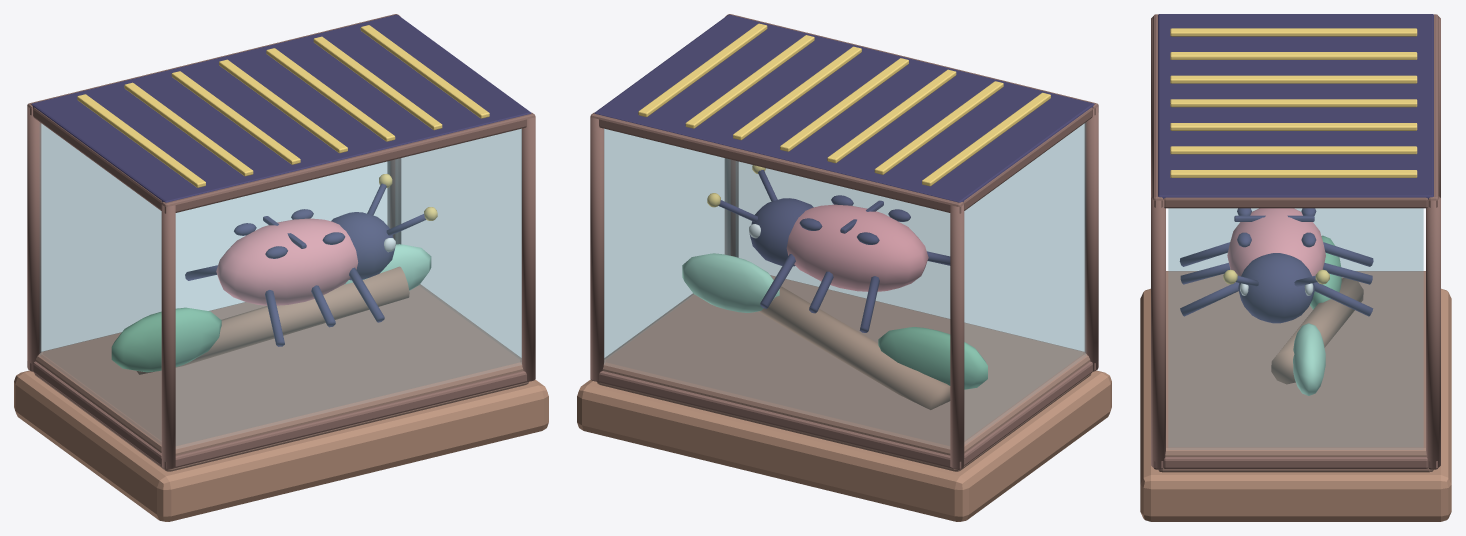
File: alpine_beetle_terrarium.glb
3 renders of one model, left to right at view 1: azimuth 30°, elevation 25°; view 2: azimuth 150°, elevation 25°; view 3: azimuth 270°, elevation 25°, orthographic. The views are drawn at different scales.
Visible parts, largest first — view 1: terrarium_front_glass, mesh_lid, terrarium_soil, terrarium_back_glass, terrarium_left_glass, terrarium_base, terrarium_right_glass, beetle_body, storybook_branch, terrarium_front_rail.001, terrarium_front_rail, terrarium_leaf (+16 smaller); view 2: terrarium_back_glass, mesh_lid, terrarium_soil, terrarium_front_glass, terrarium_left_glass, terrarium_base, terrarium_right_glass, beetle_body, storybook_branch, terrarium_back_rail.001, terrarium_back_rail, terrarium_leaf.001 (+16 smaller); view 3: terrarium_right_glass, terrarium_soil, mesh_lid, terrarium_base, terrarium_left_glass, beetle_body, terrarium_post.002, terrarium_post.003, beetle_head, terrarium_right_rail, terrarium_right_rail.001, storybook_branch (+19 smaller).
Part boxes in pixels (bbox=[...]): terrarium_front_glass: bbox=[176, 129, 521, 448]; mesh_lid: bbox=[31, 14, 531, 202]; terrarium_soil: bbox=[34, 284, 528, 471]; terrarium_back_glass: bbox=[42, 124, 389, 351]; terrarium_left_glass: bbox=[40, 123, 161, 443]; terrarium_base: bbox=[14, 370, 548, 521]; terrarium_right_glass: bbox=[396, 129, 520, 357]; beetle_body: bbox=[216, 218, 358, 305]; storybook_branch: bbox=[136, 266, 409, 374]; terrarium_front_rail.001: bbox=[161, 112, 535, 213]; terrarium_front_rail: bbox=[161, 371, 535, 469]; terrarium_leaf: bbox=[111, 307, 221, 372]; terrarium_back_glass: bbox=[604, 129, 949, 448]; mesh_lid: bbox=[594, 14, 1094, 202]; terrarium_soil: bbox=[597, 275, 1091, 471]; terrarium_front_glass: bbox=[736, 124, 1083, 351]; terrarium_left_glass: bbox=[964, 123, 1085, 443]; terrarium_base: bbox=[577, 370, 1111, 521]; terrarium_right_glass: bbox=[605, 129, 729, 357]; beetle_body: bbox=[786, 204, 928, 291]; storybook_branch: bbox=[758, 286, 950, 409]; terrarium_back_rail.001: bbox=[590, 112, 964, 213]; terrarium_back_rail: bbox=[590, 371, 964, 469]; terrarium_leaf.001: bbox=[682, 253, 779, 312]; terrarium_right_glass: bbox=[1168, 208, 1423, 449]; terrarium_soil: bbox=[1158, 271, 1433, 472]; mesh_lid: bbox=[1158, 14, 1433, 198]; terrarium_base: bbox=[1140, 288, 1451, 521]; terrarium_left_glass: bbox=[1169, 209, 1422, 270]; beetle_body: bbox=[1227, 208, 1325, 282]; terrarium_post.002: bbox=[1151, 196, 1165, 468]; terrarium_post.003: bbox=[1426, 196, 1440, 468]; beetle_head: bbox=[1238, 253, 1315, 323]; terrarium_right_rail: bbox=[1164, 457, 1427, 468]; terrarium_right_rail.001: bbox=[1163, 197, 1428, 208]; storybook_branch: bbox=[1271, 278, 1363, 384].
Bounding box in the file's own units: 4.3 × 3.37 × 2.9.
